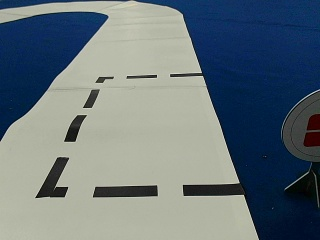company: (281, 91, 319, 159)
